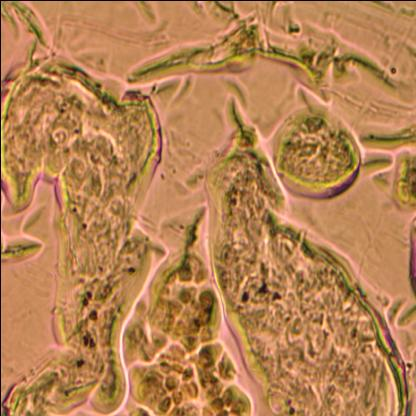Normal: (0, 176, 404, 416), (0, 0, 236, 400)
